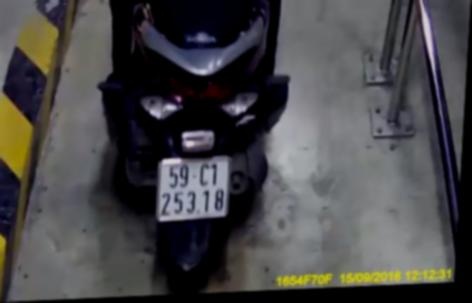License_Plate: (152, 149, 237, 222)
